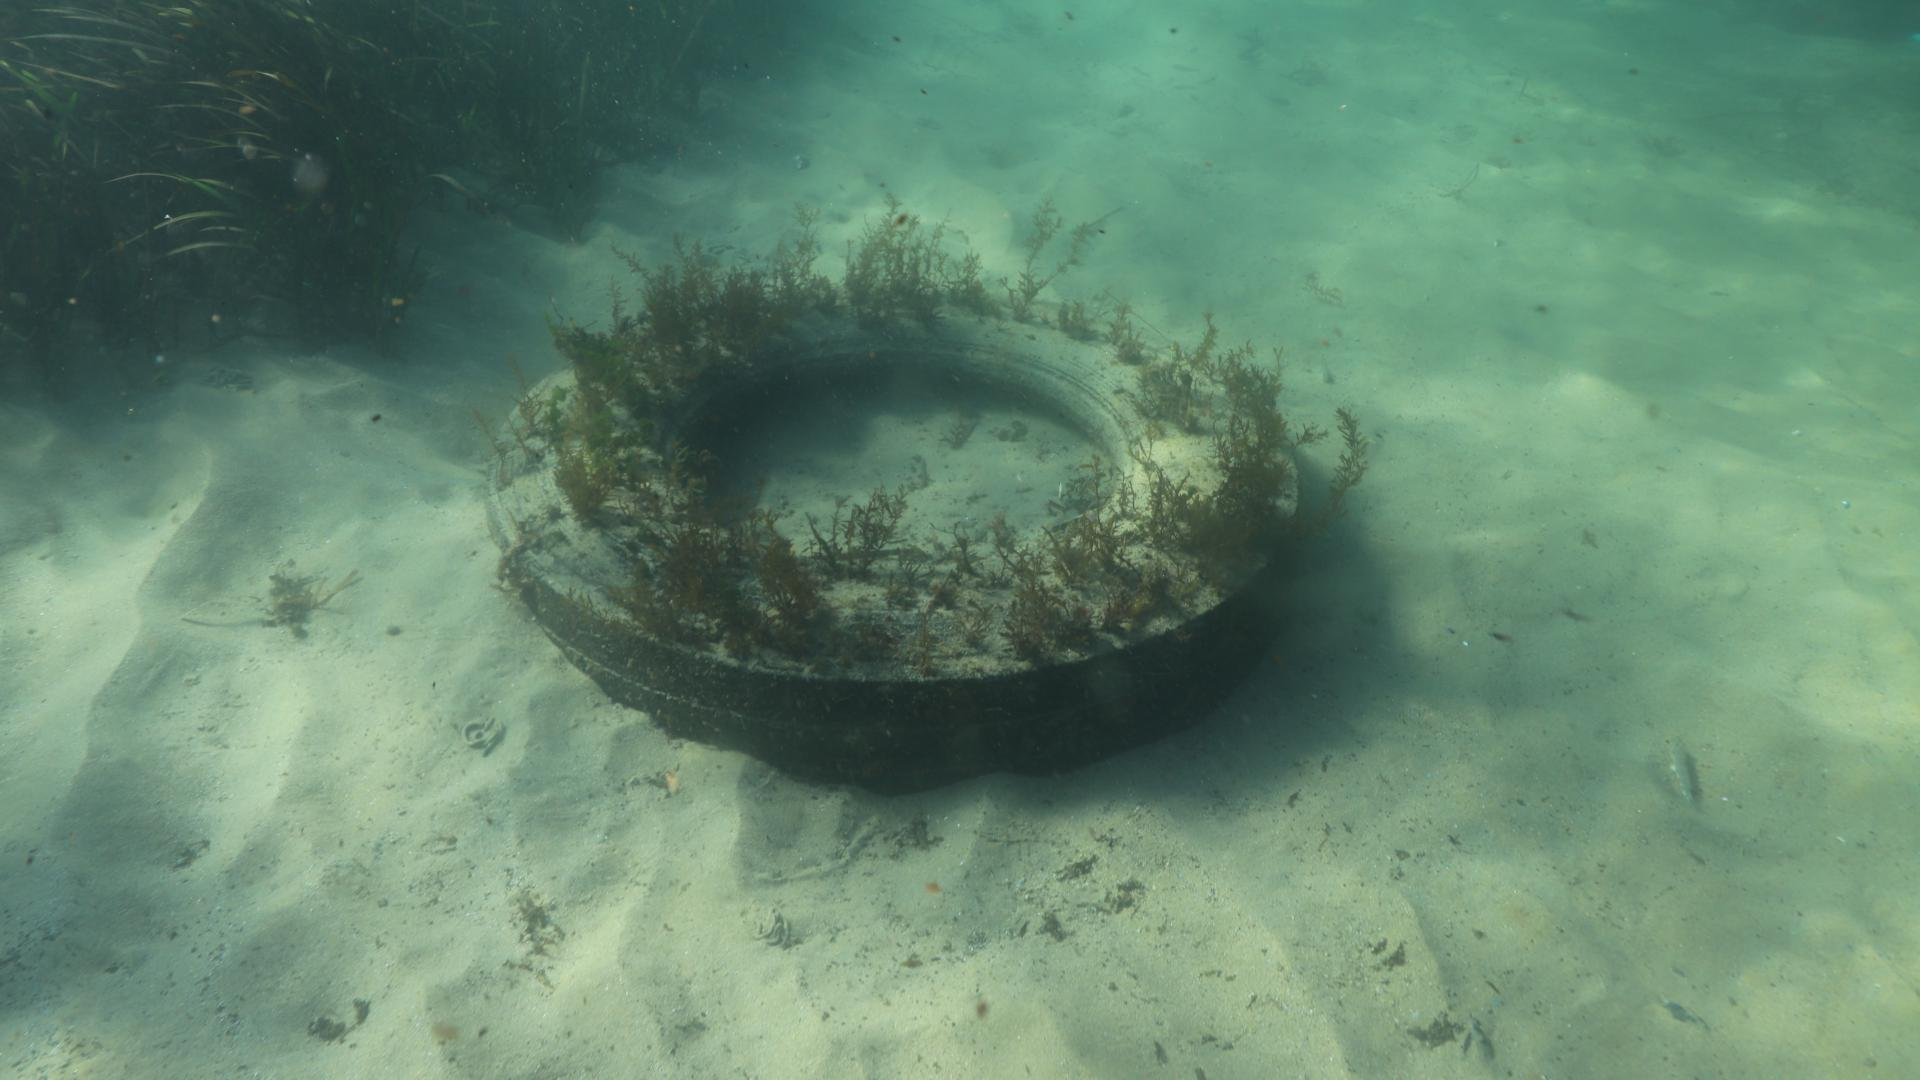tire: (488, 284, 1302, 785)
